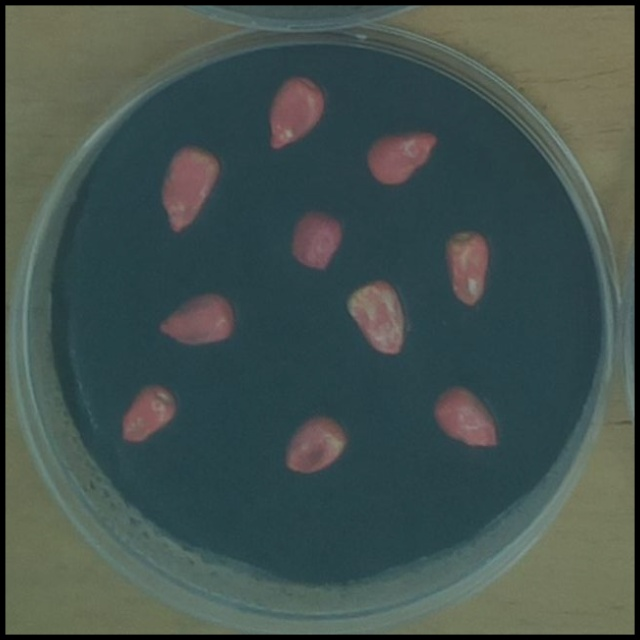Zea mays: (153, 138, 226, 237), (339, 270, 413, 362), (148, 282, 242, 352), (424, 378, 507, 453), (261, 69, 334, 154), (277, 406, 355, 481), (359, 124, 443, 192), (436, 220, 496, 312), (112, 378, 185, 450), (282, 200, 349, 276)
